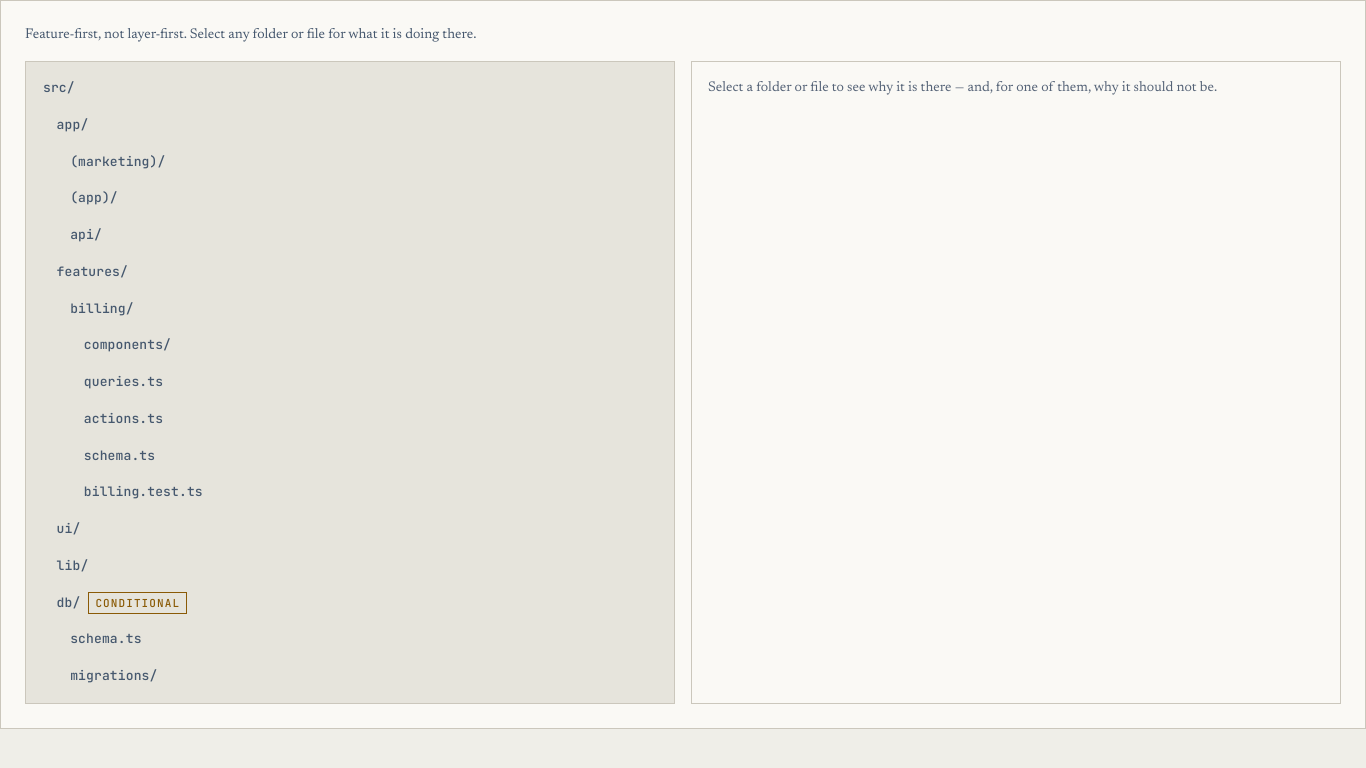
Test: shows the selected node’s own note, since a detail panel that ignores the selection is a list with decoration
Click the button with aria-label "src/features/" at (92, 271), box [34,254,666,291]
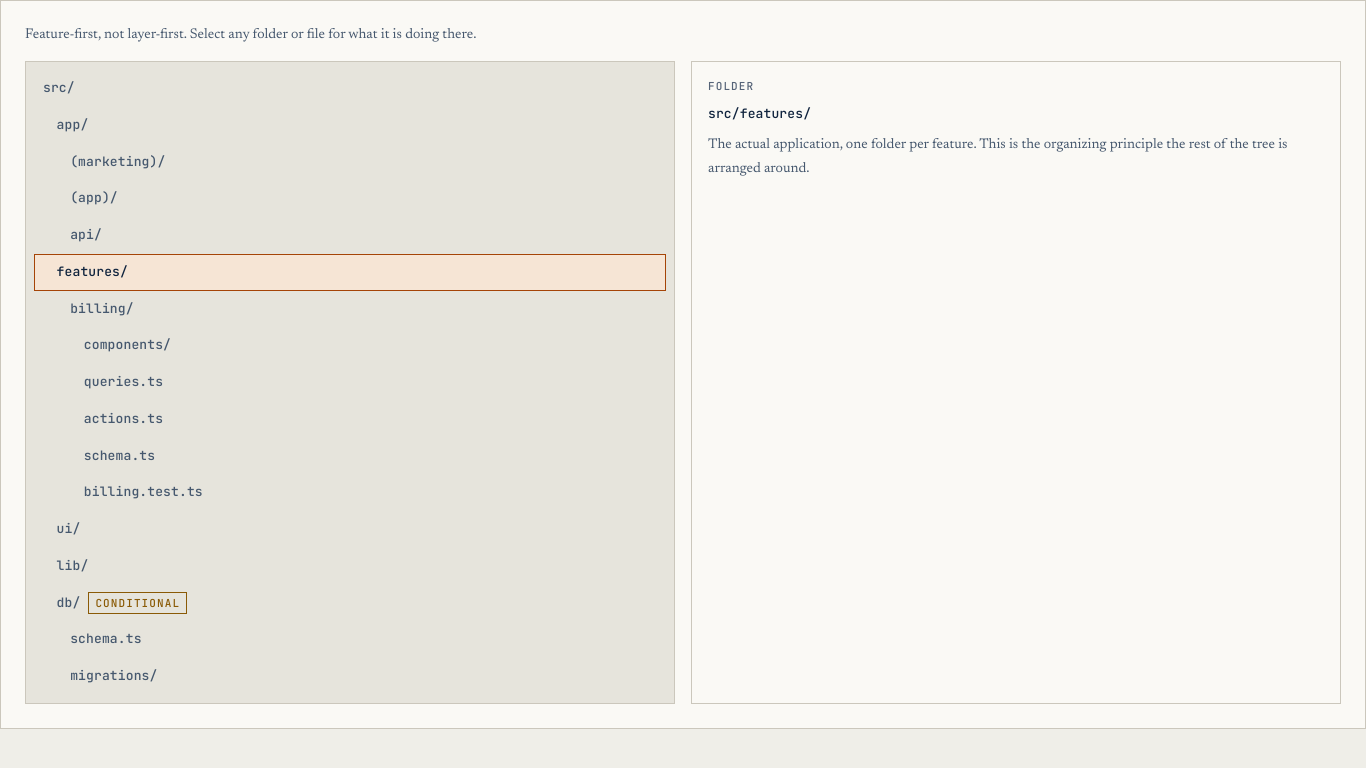
Expected: the element with test id "tree-note" shows "The actual application, one folder per feature. This is the organizing principle the rest of the tree is arranged around.", [708,138,1288,176]
Click the button with aria-label "src/db/" at (138, 603), box [34,584,666,621]
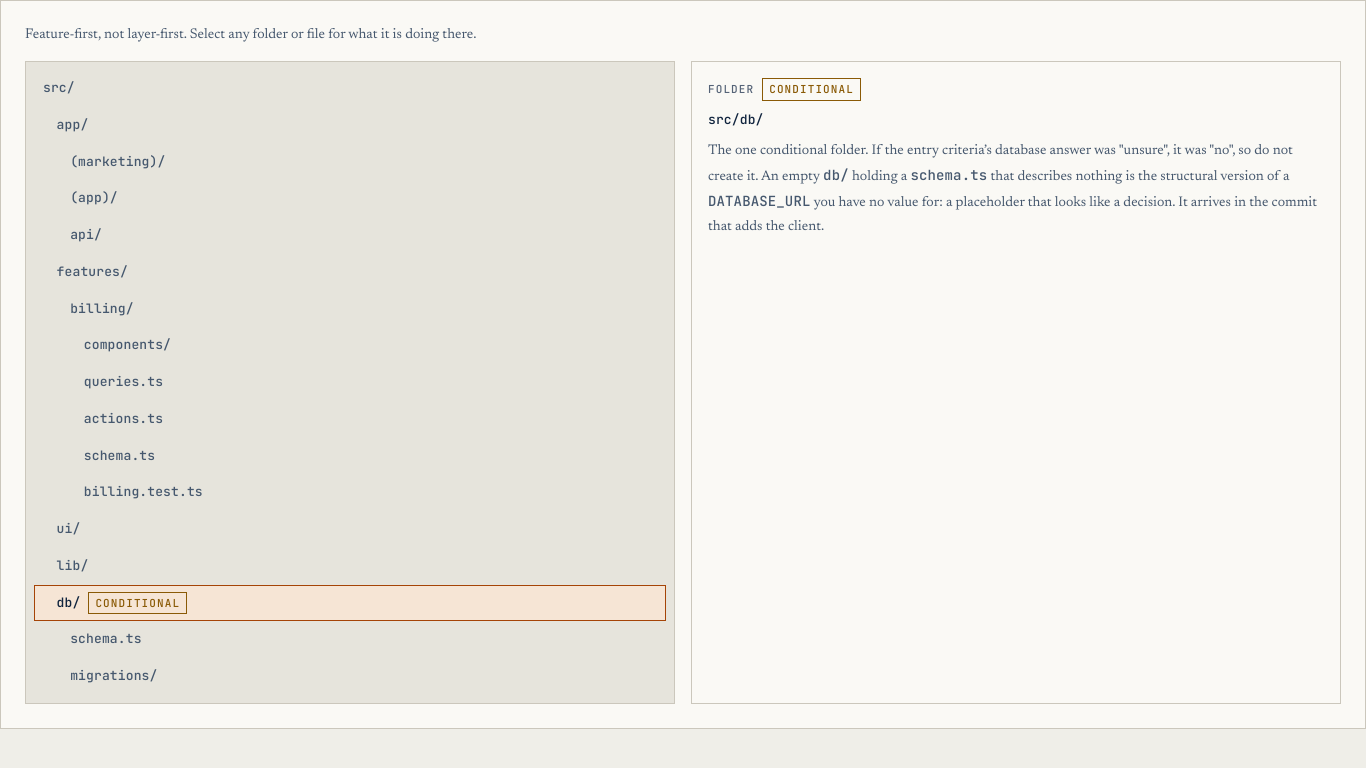
Expected: the element with test id "tree-note" shows "The one conditional folder. If the entry criteria’s database answer was \"unsure\", it was \"no\", so do not create it. An empty", [708,144,1293,184]
Expected: the text with test id "tree-note" no longer shows "The actual application, one folder per feature. This is the organizing principle the rest of the tree is arranged around."
